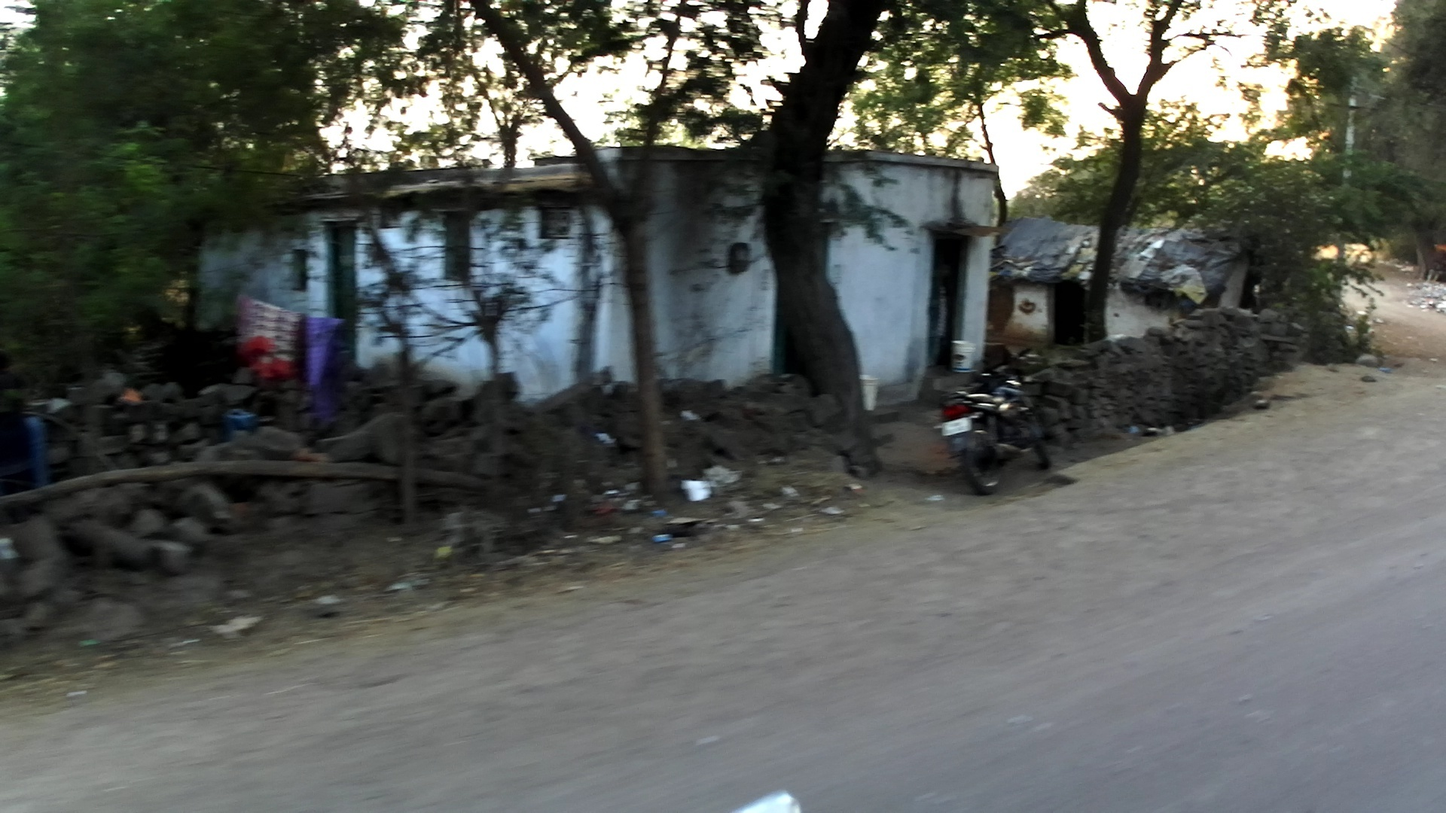motorcycle: (932, 345, 1051, 496)
person: (924, 262, 950, 370)
